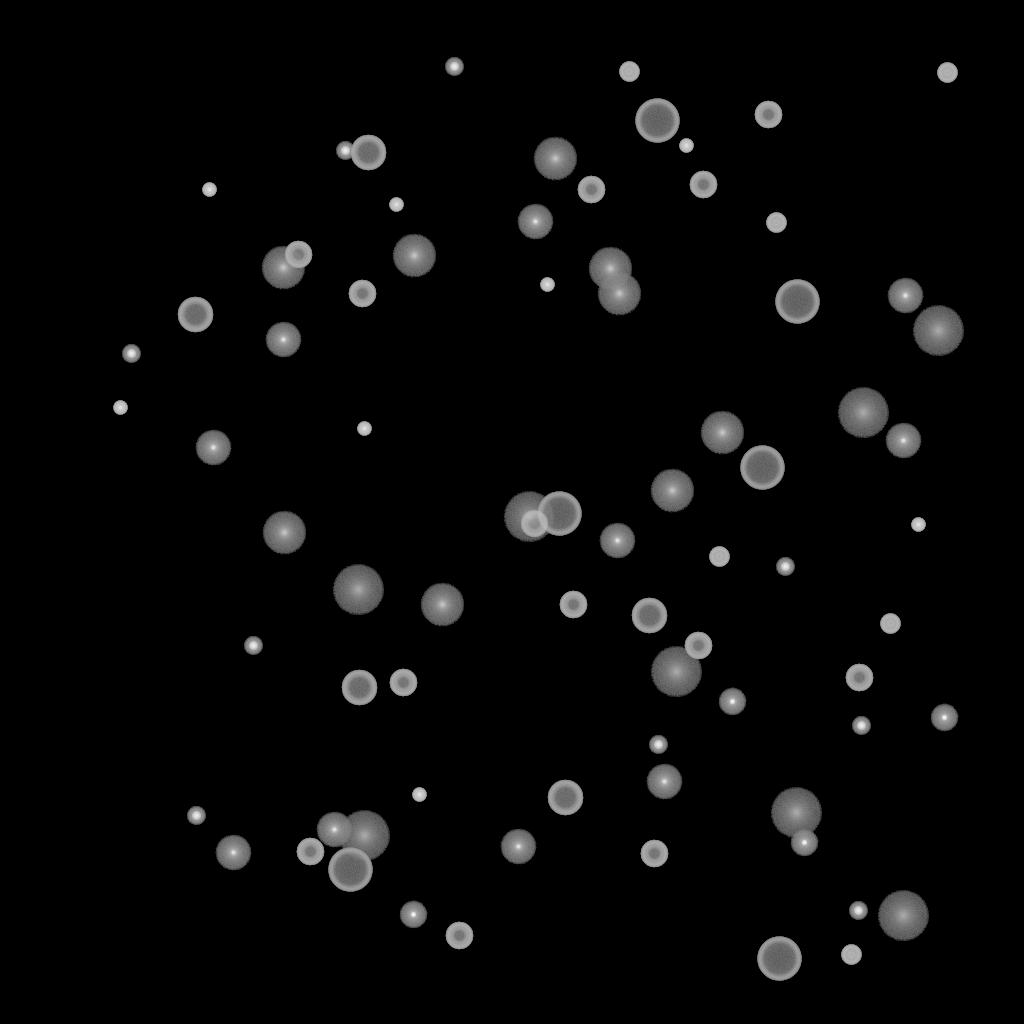depth:-10: (718, 688, 746, 716), (399, 901, 427, 929), (790, 829, 818, 857), (930, 704, 958, 732)
depth:-20: (649, 736, 667, 754), (244, 637, 262, 655), (849, 902, 867, 920), (187, 807, 205, 825), (122, 345, 140, 363), (852, 717, 870, 735), (776, 558, 794, 576), (445, 58, 463, 76), (336, 142, 354, 160)
depth:-30: (412, 788, 426, 802), (679, 139, 693, 153), (357, 422, 371, 436), (202, 183, 216, 197), (389, 198, 403, 212), (911, 518, 925, 532), (113, 401, 127, 415), (540, 278, 554, 292)
depth:-40: (841, 945, 861, 965), (937, 63, 957, 83), (709, 547, 729, 567), (766, 213, 786, 233), (619, 62, 639, 82), (880, 614, 900, 634)
depth:-50: (577, 176, 605, 204), (445, 922, 473, 950), (640, 840, 668, 868), (559, 591, 587, 619), (684, 632, 712, 660), (296, 838, 324, 866), (389, 669, 417, 697), (520, 510, 548, 538), (284, 241, 312, 269), (348, 280, 376, 308), (845, 664, 873, 692), (754, 101, 782, 129), (689, 171, 717, 199)
depth:-60: (177, 297, 213, 333), (341, 670, 377, 706), (547, 780, 583, 816), (631, 598, 667, 634), (350, 135, 386, 171)
depth:-70: (537, 492, 581, 536), (328, 848, 372, 892), (740, 446, 784, 490), (775, 280, 819, 324), (635, 99, 679, 143), (757, 937, 801, 981)
depth:0: (646, 764, 682, 800), (265, 322, 301, 358), (500, 829, 536, 865), (195, 430, 231, 466), (215, 835, 251, 871), (316, 812, 352, 848), (887, 278, 923, 314), (885, 423, 921, 459), (517, 204, 553, 240), (599, 523, 635, 559)
depth:10: (392, 234, 436, 278), (261, 246, 305, 290), (533, 137, 577, 181), (650, 469, 694, 513), (597, 272, 641, 316), (700, 411, 744, 455), (420, 583, 464, 627), (262, 511, 306, 555), (588, 247, 632, 291)
depth:20: (338, 811, 390, 861), (837, 388, 889, 438), (332, 565, 384, 615), (503, 492, 555, 542), (877, 891, 929, 941), (912, 306, 964, 356), (650, 647, 702, 697), (770, 788, 822, 838)
